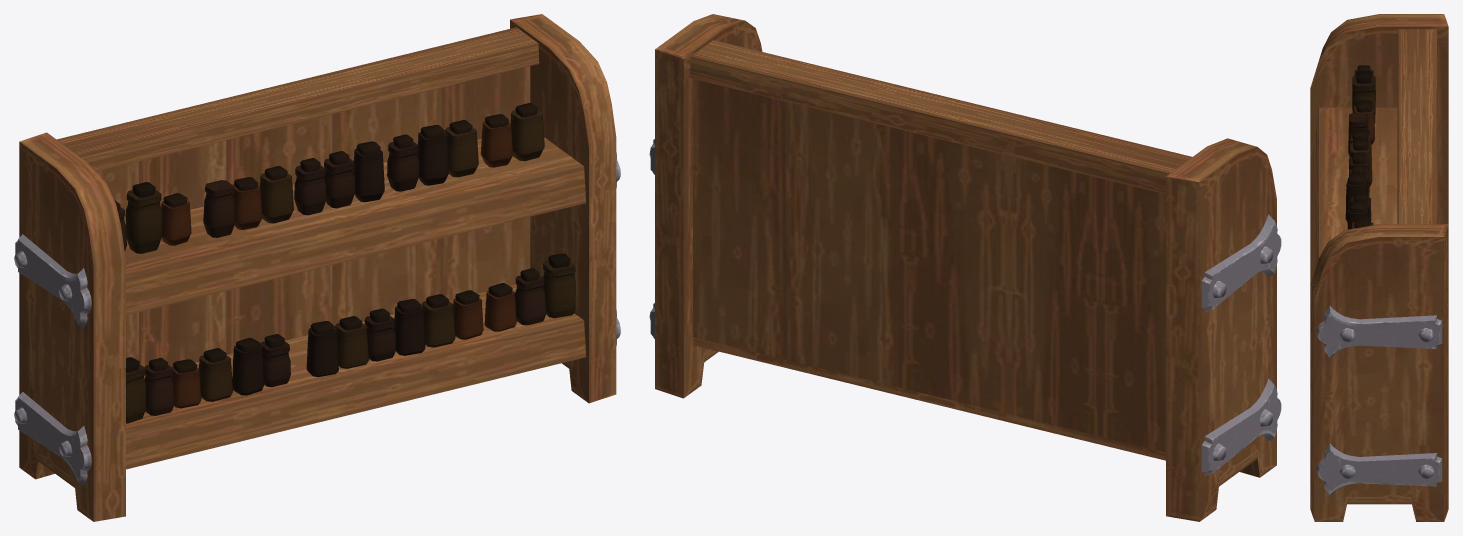
File: Shelf_Small_Bottles.glb
The picture shows the model from 3 angles, left to right: view 1: azimuth 30°, elevation 25°; view 2: azimuth 150°, elevation 25°; view 3: azimuth 270°, elevation 25°; orthographic projection. The views are drawn at different scales.
Parts seen in each view (by area): view 1: Shelf_Small_Bottles; view 2: Shelf_Small_Bottles; view 3: Shelf_Small_Bottles.
Part boxes in pixels (x1,y1,x2,y2): Shelf_Small_Bottles: (14,14,620,521); Shelf_Small_Bottles: (649,14,1281,521); Shelf_Small_Bottles: (1310,14,1448,521).
Bounding box in the file's own units: 1.14 × 0.6474 × 0.2846.
Materials: 3 (3 with a texture image).
